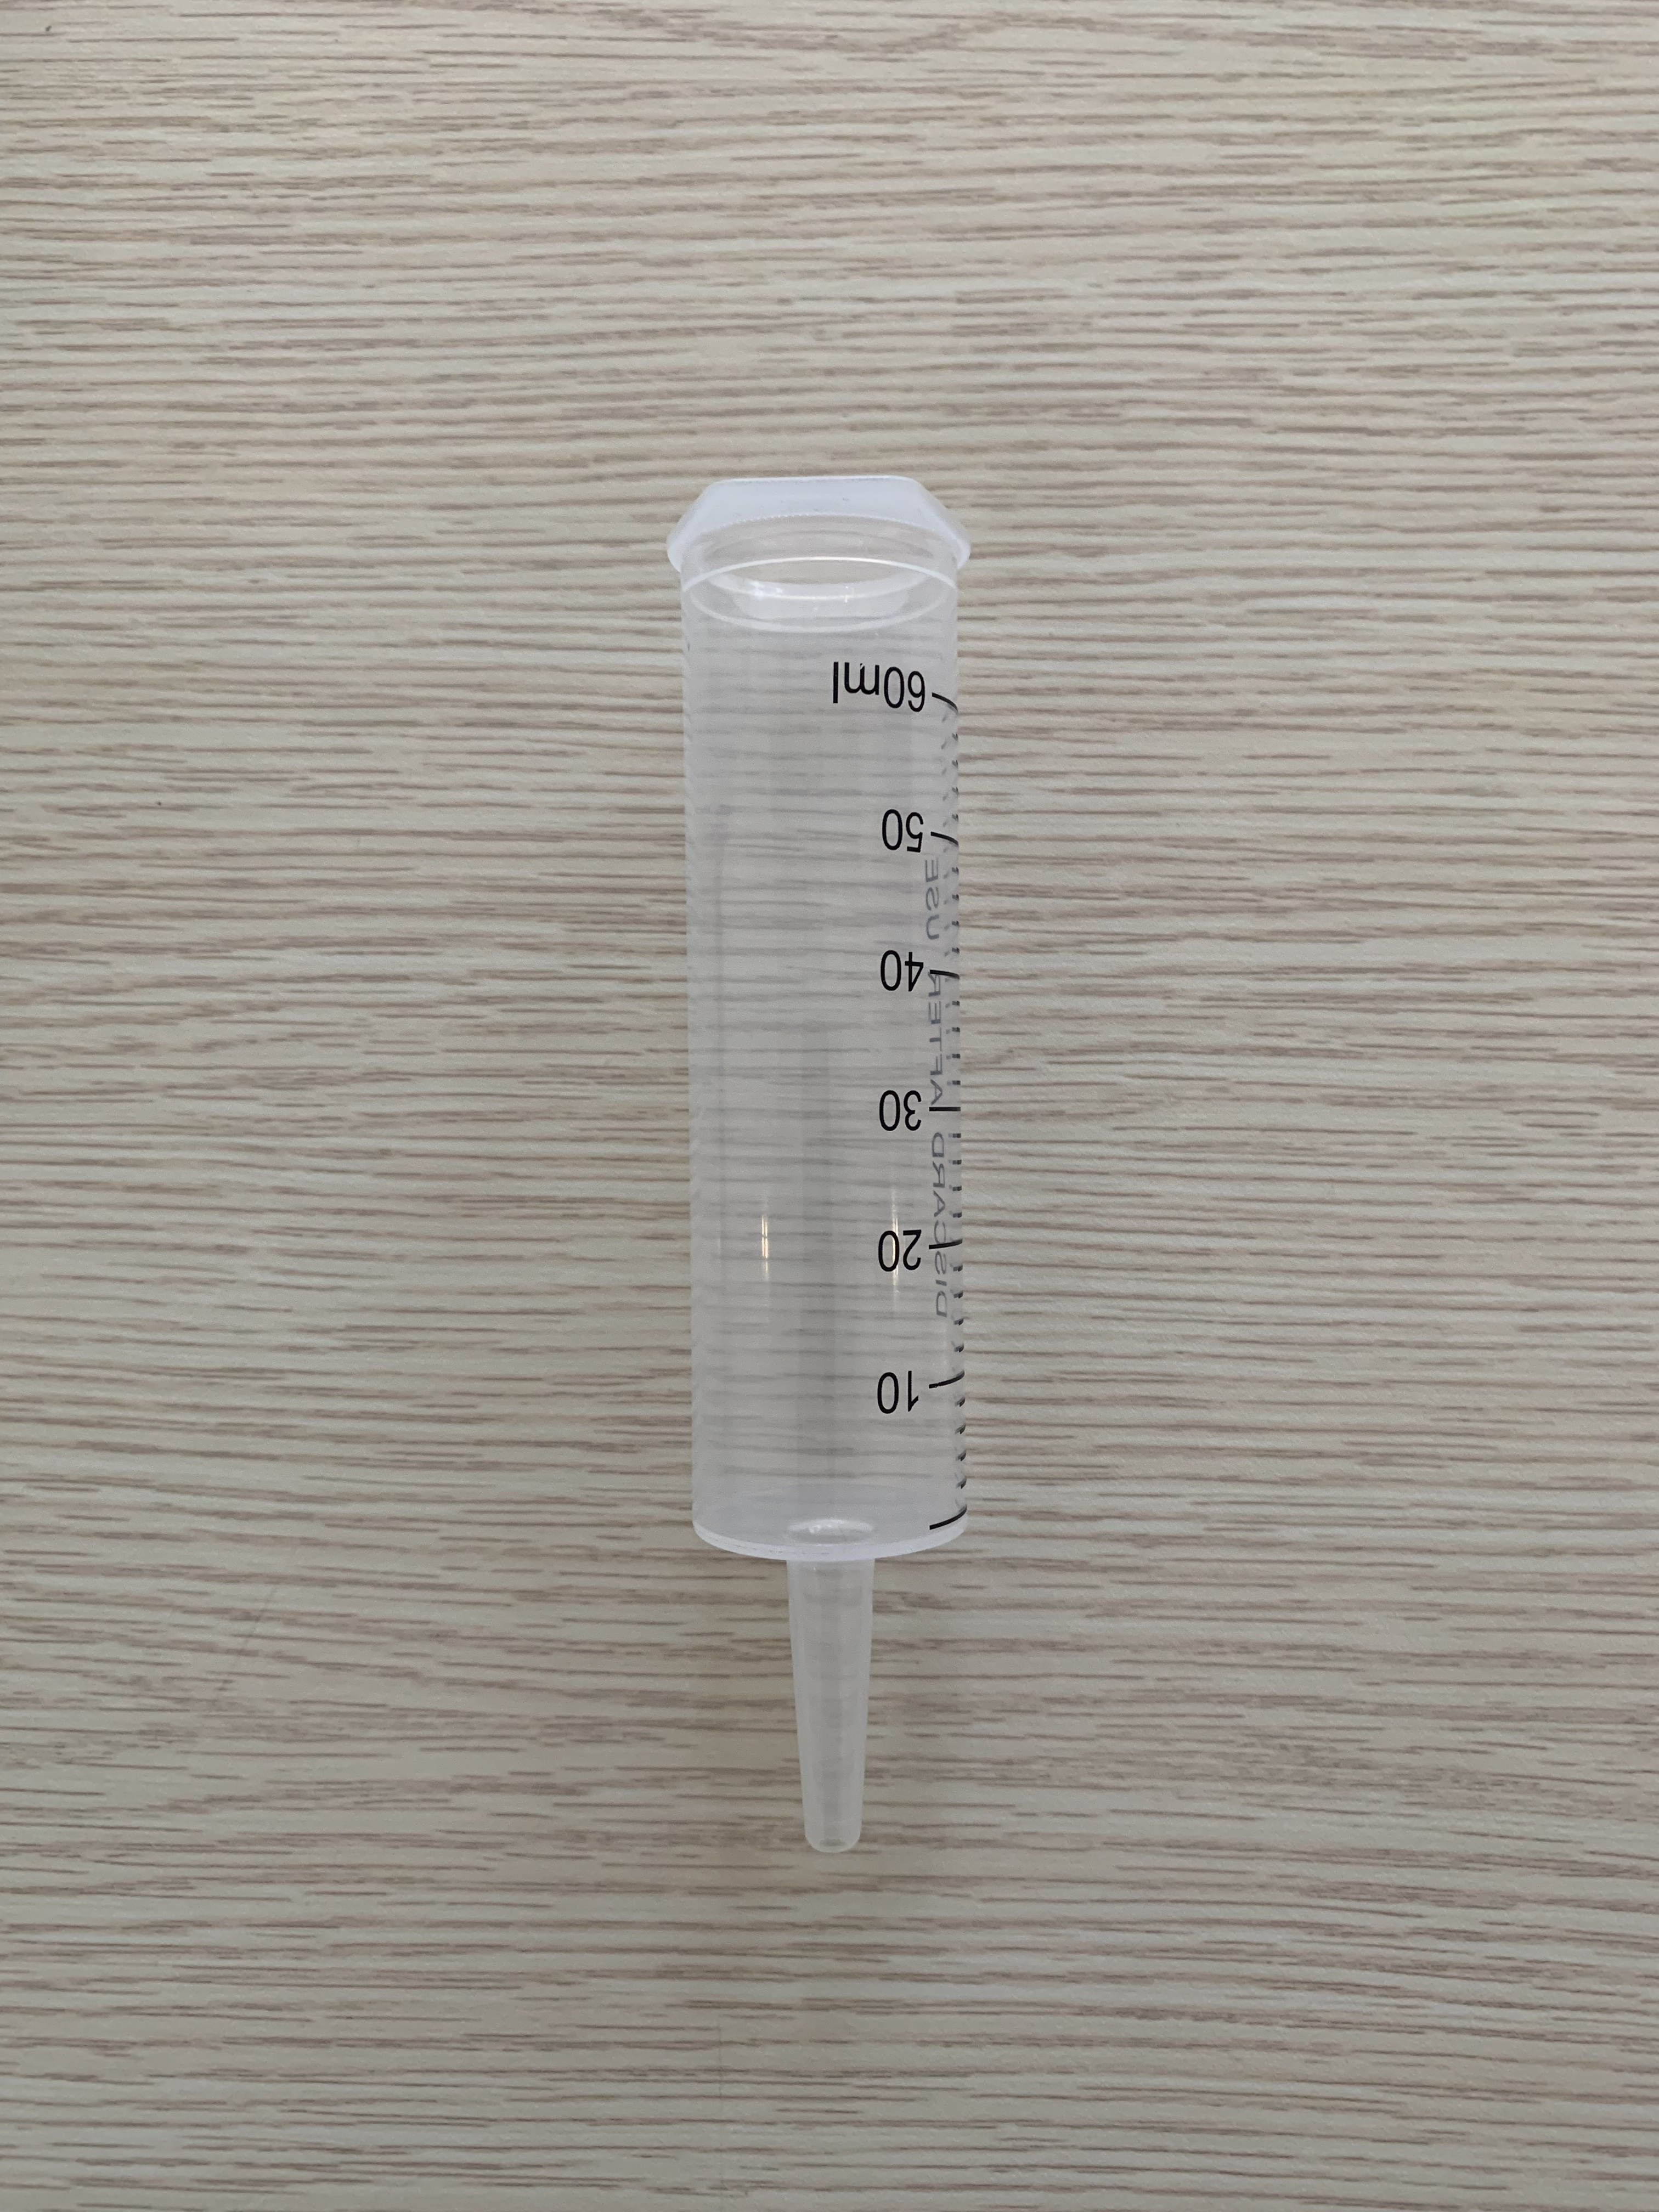syringe: (652, 453, 1014, 1860)
